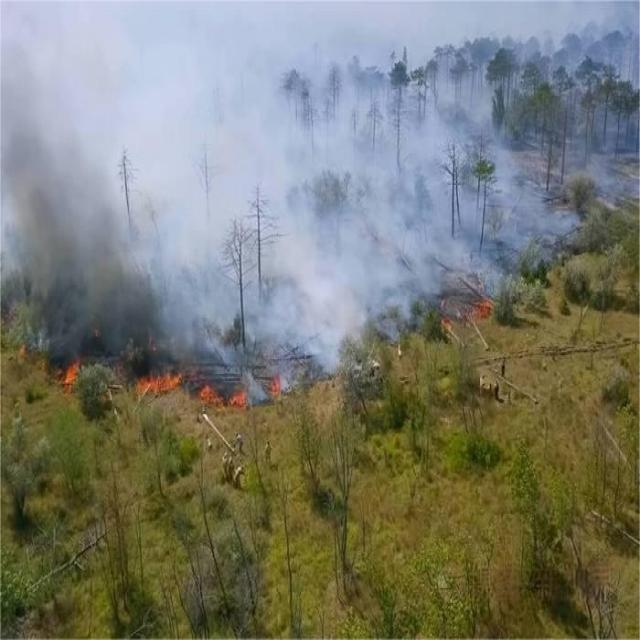Smoke: (0, 0, 438, 321)
